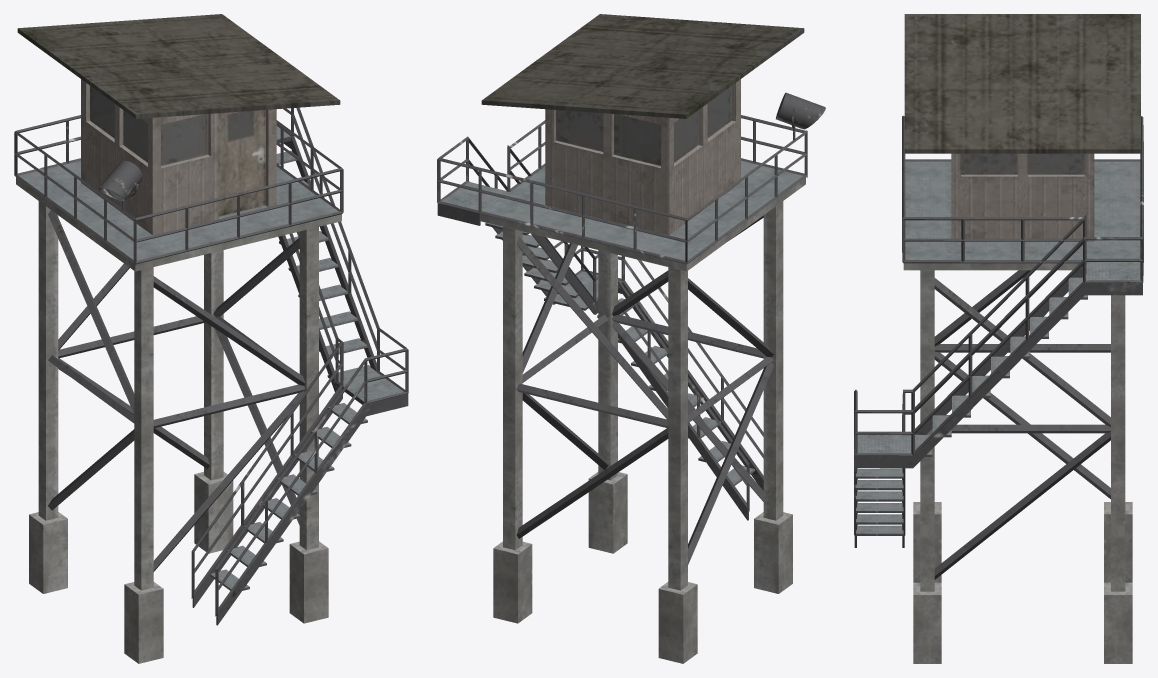
The model's file is guard-tower.access-v7.lod0.glb.
3 views of the same model, side by side, from view 1: azimuth 30°, elevation 25°; view 2: azimuth 150°, elevation 25°; view 3: azimuth 270°, elevation 25° (orthographic).
Visible parts, largest first — view 1: defaultMaterial; view 2: defaultMaterial; view 3: defaultMaterial.
Boxes of the visible parts, box(x1,y1,x2,y2) form: defaultMaterial: box(14, 14, 408, 663); defaultMaterial: box(437, 14, 825, 663); defaultMaterial: box(854, 14, 1143, 663).
Bounding box in the file's own units: 5 × 9.61 × 4.56.
Materials: 1 (1 with a texture image).
